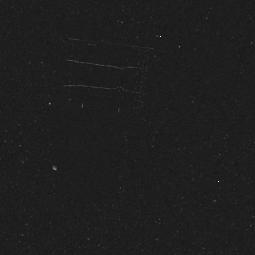proba_3_csc: (48, 35, 160, 116)
